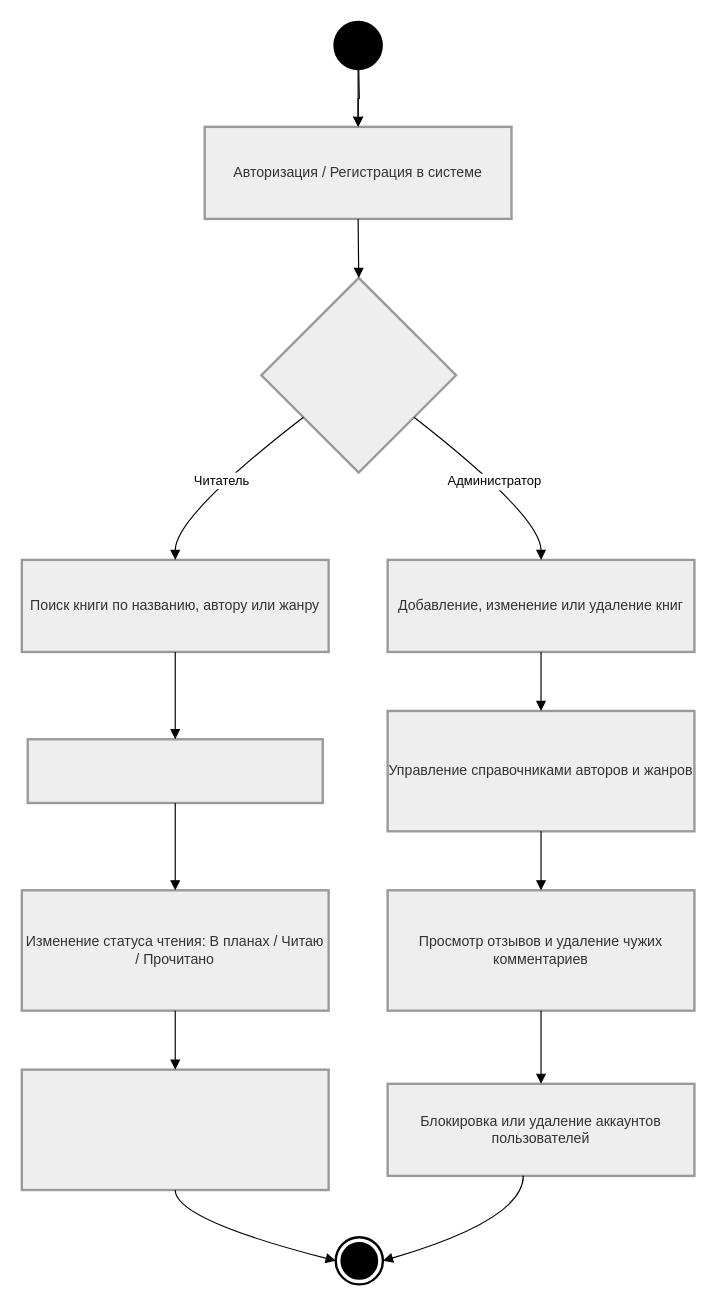
Image size: 715x1305. Some labels were removed from this diagram. The shapes that lost their labels are listed below. From the top down, each one's centre as x and y in pixels, then its label:
(358,374): Проверка роли
(174,771): Просмотр карточки книги
(174,1129): Написание текстового комментария и выставление оценки
